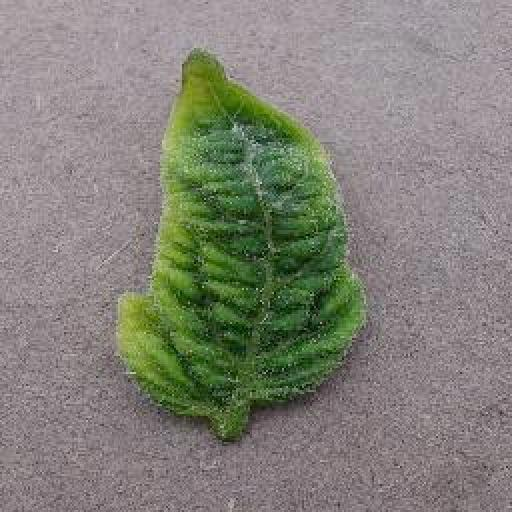disease_tomato: (114, 46, 368, 418)
